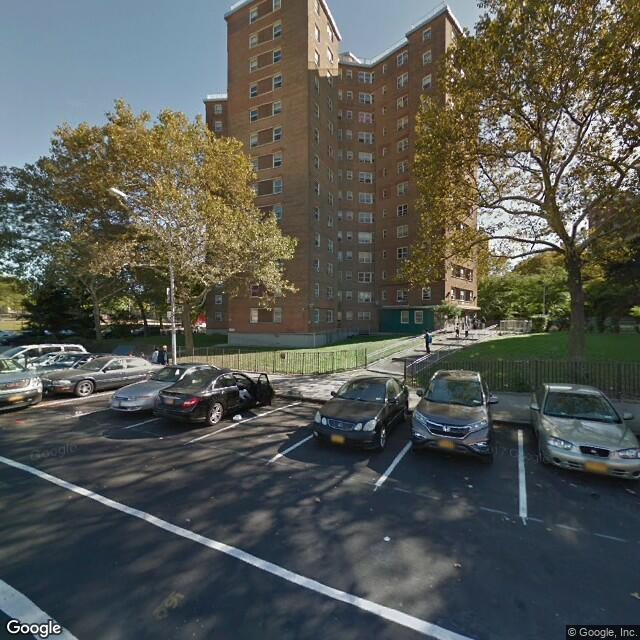litter: (232, 414, 241, 419), (466, 482, 472, 486), (383, 535, 390, 538), (160, 435, 164, 439)
